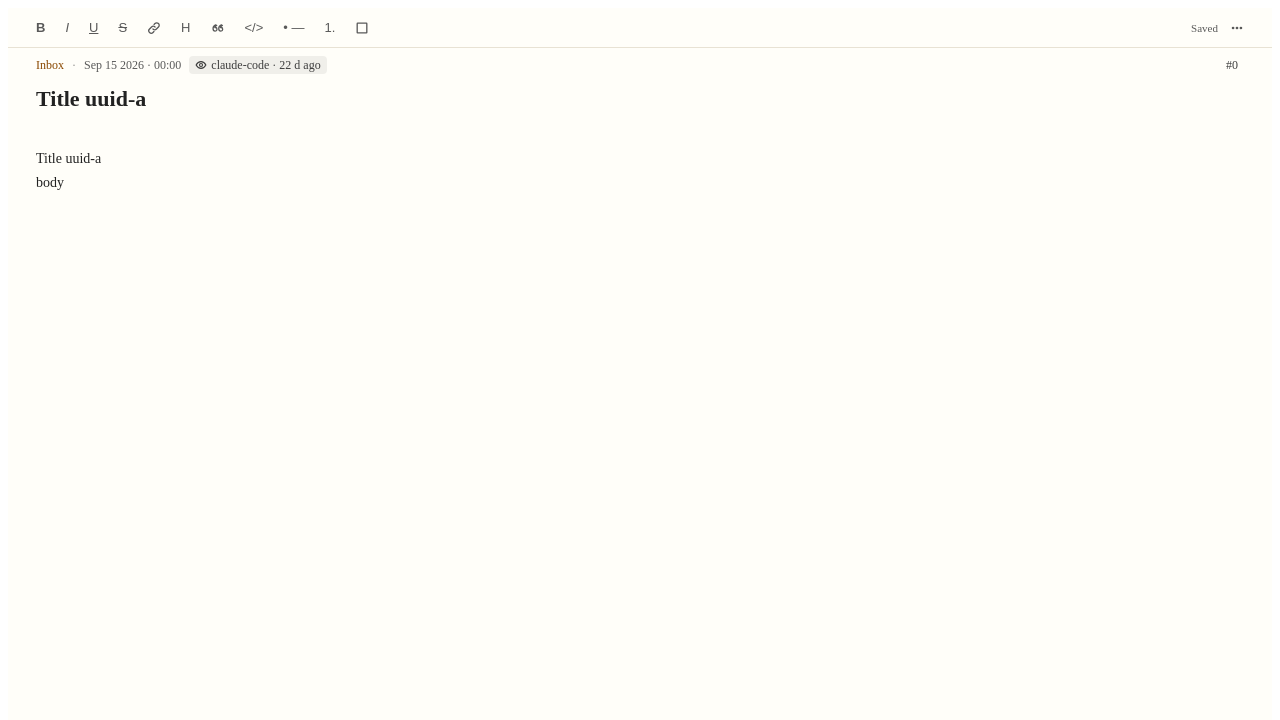
Test: trust chip › a stale Mark reviewed puts the row back where it was
The width and height of the screenshot is (1280, 720).
Click the button with test id "trust-chip" at (258, 65), box [189,56,327,74]
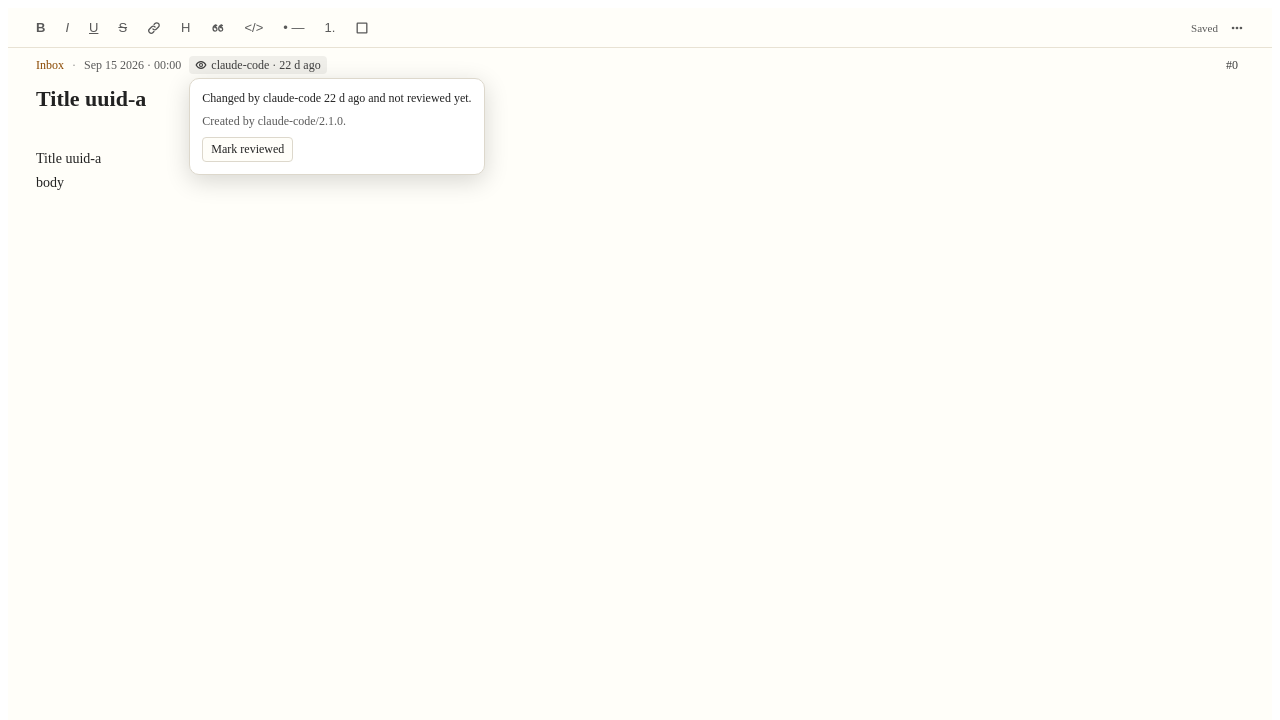
Click the button with class "mark-reviewed-btn" at (248, 150), box [202,137,293,162]
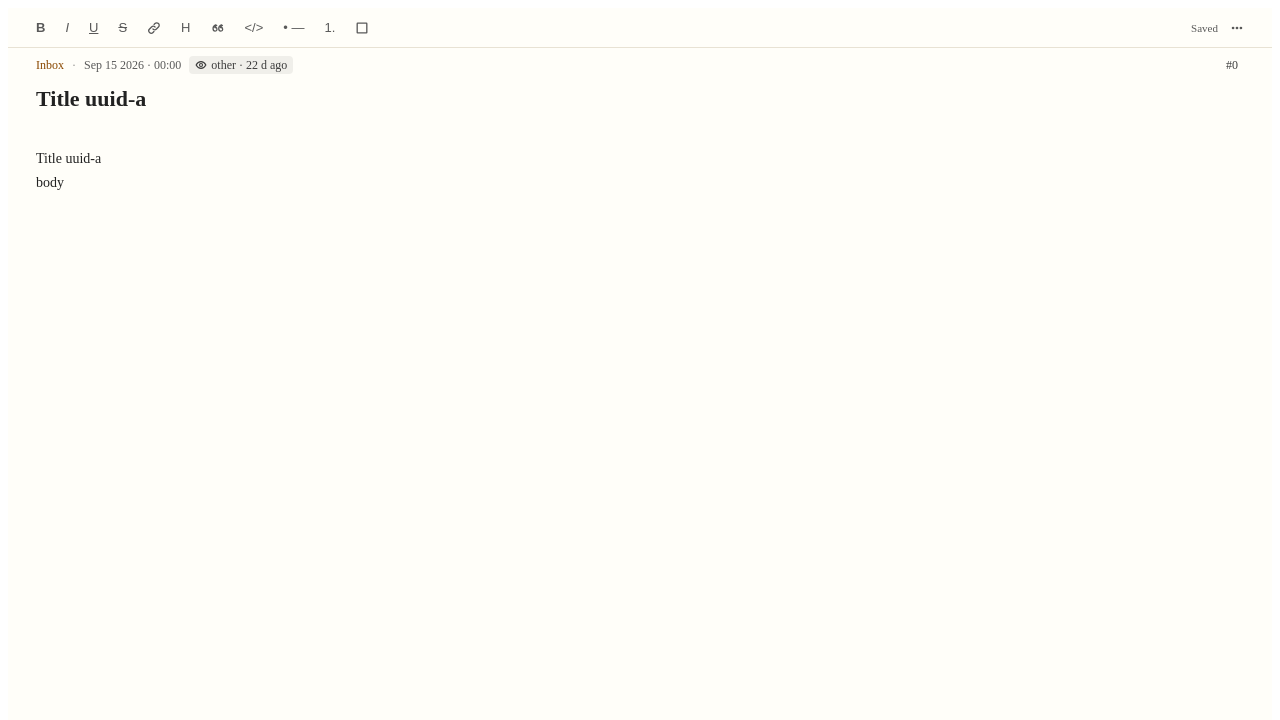
expect the button with test id "trust-chip" shows "other": met, box [189,56,293,74]
